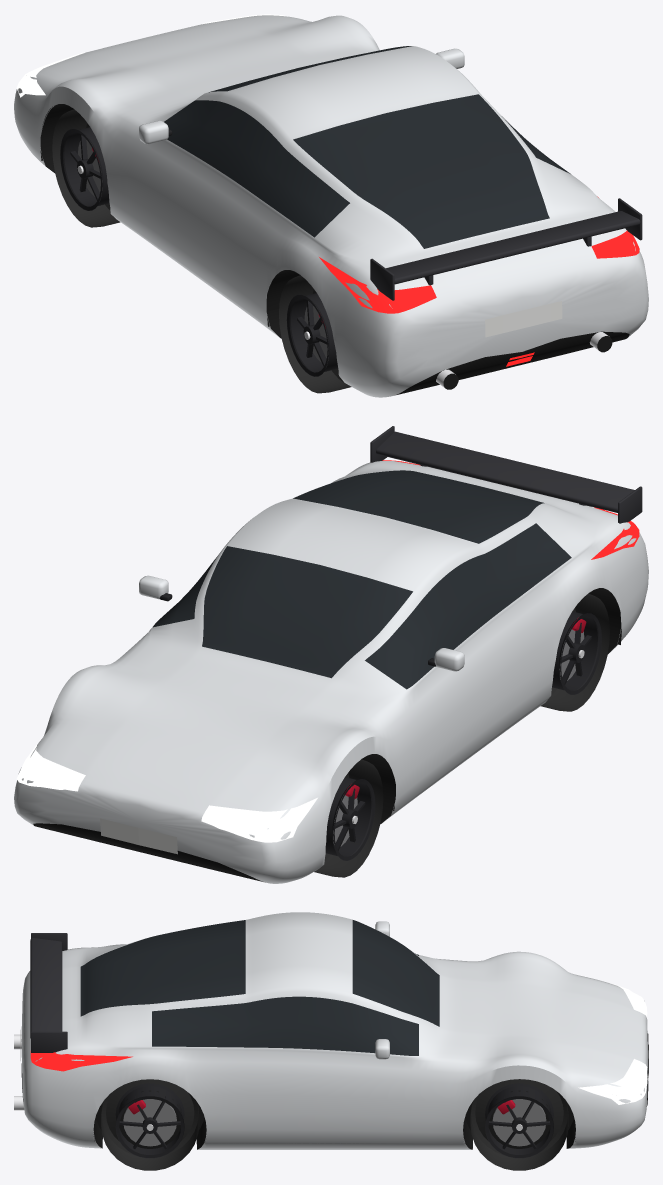
The model's file is nismo_370z.glb.
The picture shows the model from 3 angles, top to bottom: view 1: azimuth 30°, elevation 25°; view 2: azimuth 150°, elevation 25°; view 3: azimuth 270°, elevation 25°; orthographic projection. The views are drawn at different scales.
Visible parts, largest first — view 1: Body, Wheel_RL, Wheel_FL; view 2: Body, Wheel_FL, Wheel_RL; view 3: Body, Wheel_FR, Wheel_RR.
Part boxes in pixels (<box>): Body: <box>14,14,648,397</box>; Wheel_RL: <box>279,275,351,393</box>; Wheel_FL: <box>52,109,120,227</box>; Body: <box>14,426,648,883</box>; Wheel_FL: <box>314,759,383,877</box>; Wheel_RL: <box>540,593,609,711</box>; Body: <box>14,912,648,1149</box>; Wheel_FR: <box>470,1079,568,1170</box>; Wheel_RR: <box>101,1079,199,1170</box>.
Size of the model in its own units: 2.08 by 1.3 by 4.38.
